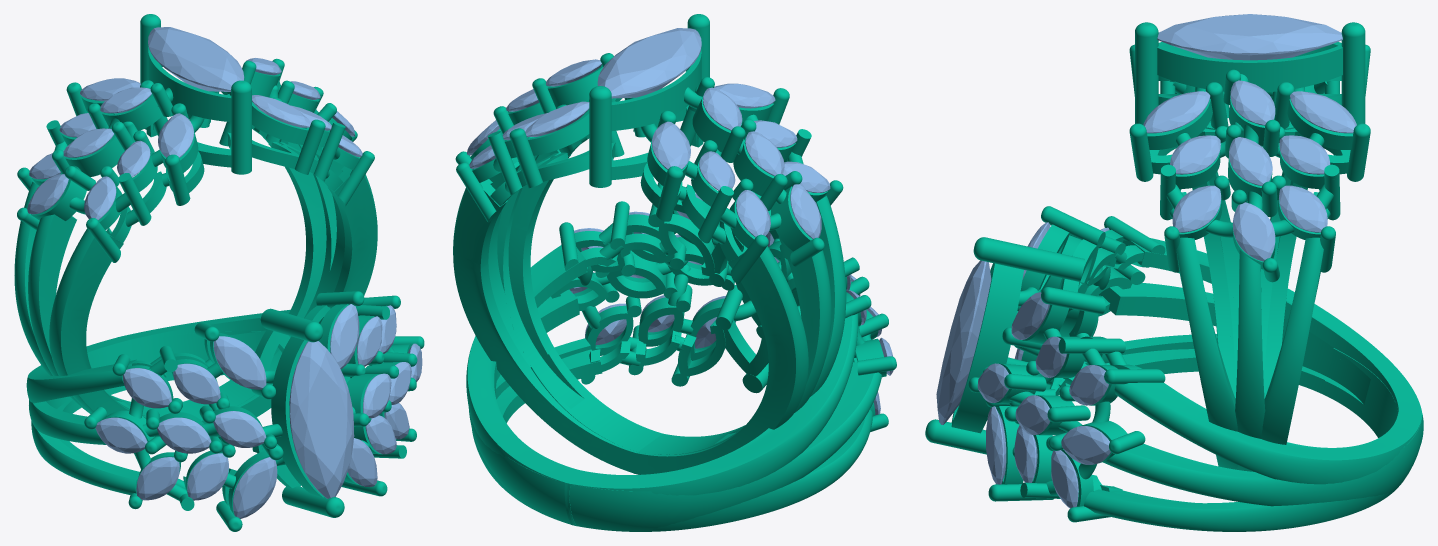
3 renders of one model, left to right at view 1: azimuth 30°, elevation 25°; view 2: azimuth 150°, elevation 25°; view 3: azimuth 270°, elevation 25°, orthographic. The views are drawn at different scales.
Visible parts, largest first — view 1: Diamond_Marquise (×29), LR002 5.3dm, Bezel (×14), Head Prong (×11); view 2: LR002 5.3dm, Bezel (×26), Diamond_Marquise (×13), Head Prong (×15); view 3: LR002 5.3dm, Diamond_Marquise (×20), Head Prong (×18), Bezel (×13).
Part boxes in pixels (left/top/right/bottom): Diamond_Marquise (×29): left=27, top=27, right=411, bottom=518; LR002 5.3dm: left=14, top=74, right=395, bottom=500; Bezel (×14): left=31, top=47, right=380, bottom=497; Head Prong (×11): left=86, top=14, right=374, bottom=517; LR002 5.3dm: left=453, top=87, right=881, bottom=531; Bezel (×26): left=527, top=49, right=886, bottom=377; Diamond_Marquise (×13): left=525, top=28, right=830, bottom=345; Head Prong (×15): left=456, top=14, right=896, bottom=375; LR002 5.3dm: left=983, top=57, right=1423, bottom=531; Diamond_Marquise (×20): left=936, top=14, right=1356, bottom=508; Head Prong (×18): left=925, top=22, right=1370, bottom=501; Bezel (×13): left=951, top=42, right=1353, bottom=484.
Size of the model in its own units: 2.15 by 2.36 by 2.41.
